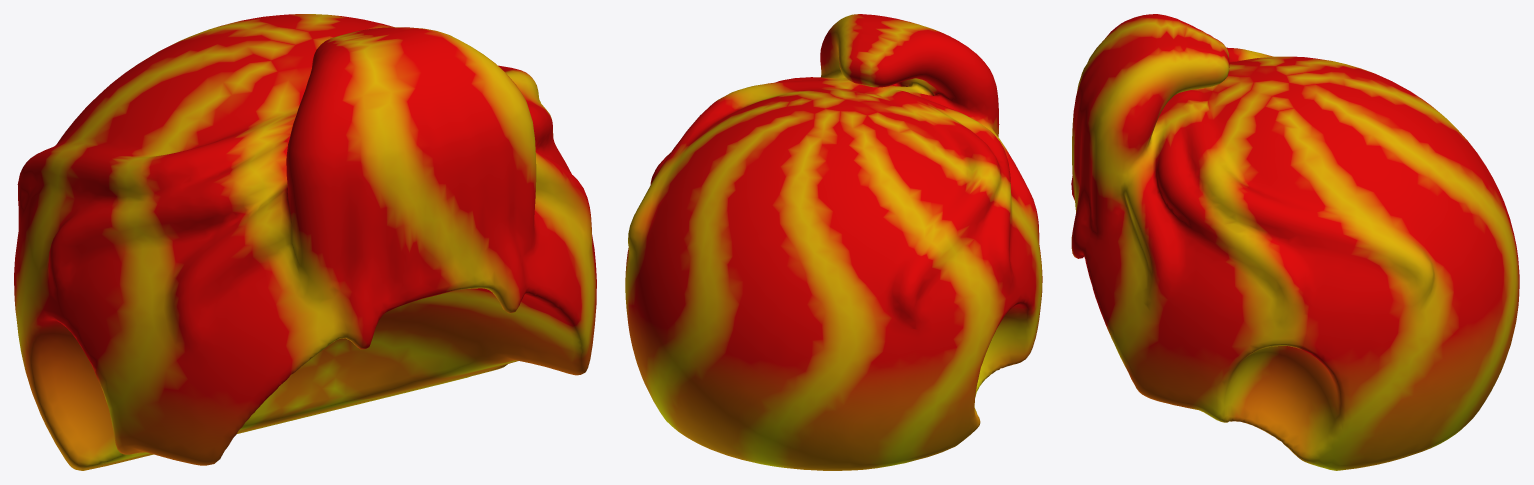
The model's file is quiff.glb.
3 renders of one model, left to right at view 1: azimuth 30°, elevation 25°; view 2: azimuth 150°, elevation 25°; view 3: azimuth 270°, elevation 25°, orthographic. The views are drawn at different scales.
Parts seen in each view (by area): view 1: part; view 2: part; view 3: part.
Part boxes in pixels (x1,y1,x2,y2): part: (14, 14, 596, 470); part: (625, 14, 1042, 470); part: (1071, 14, 1519, 470).
Bounding box in the file's own units: 2.04 × 1.81 × 2.01.
